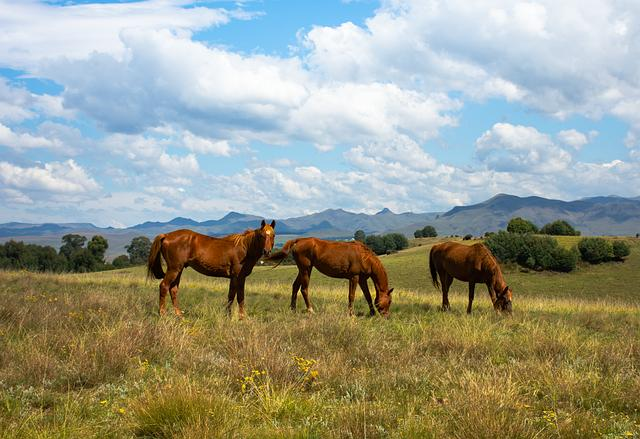Non_Gorille: (4, 3, 640, 438)
